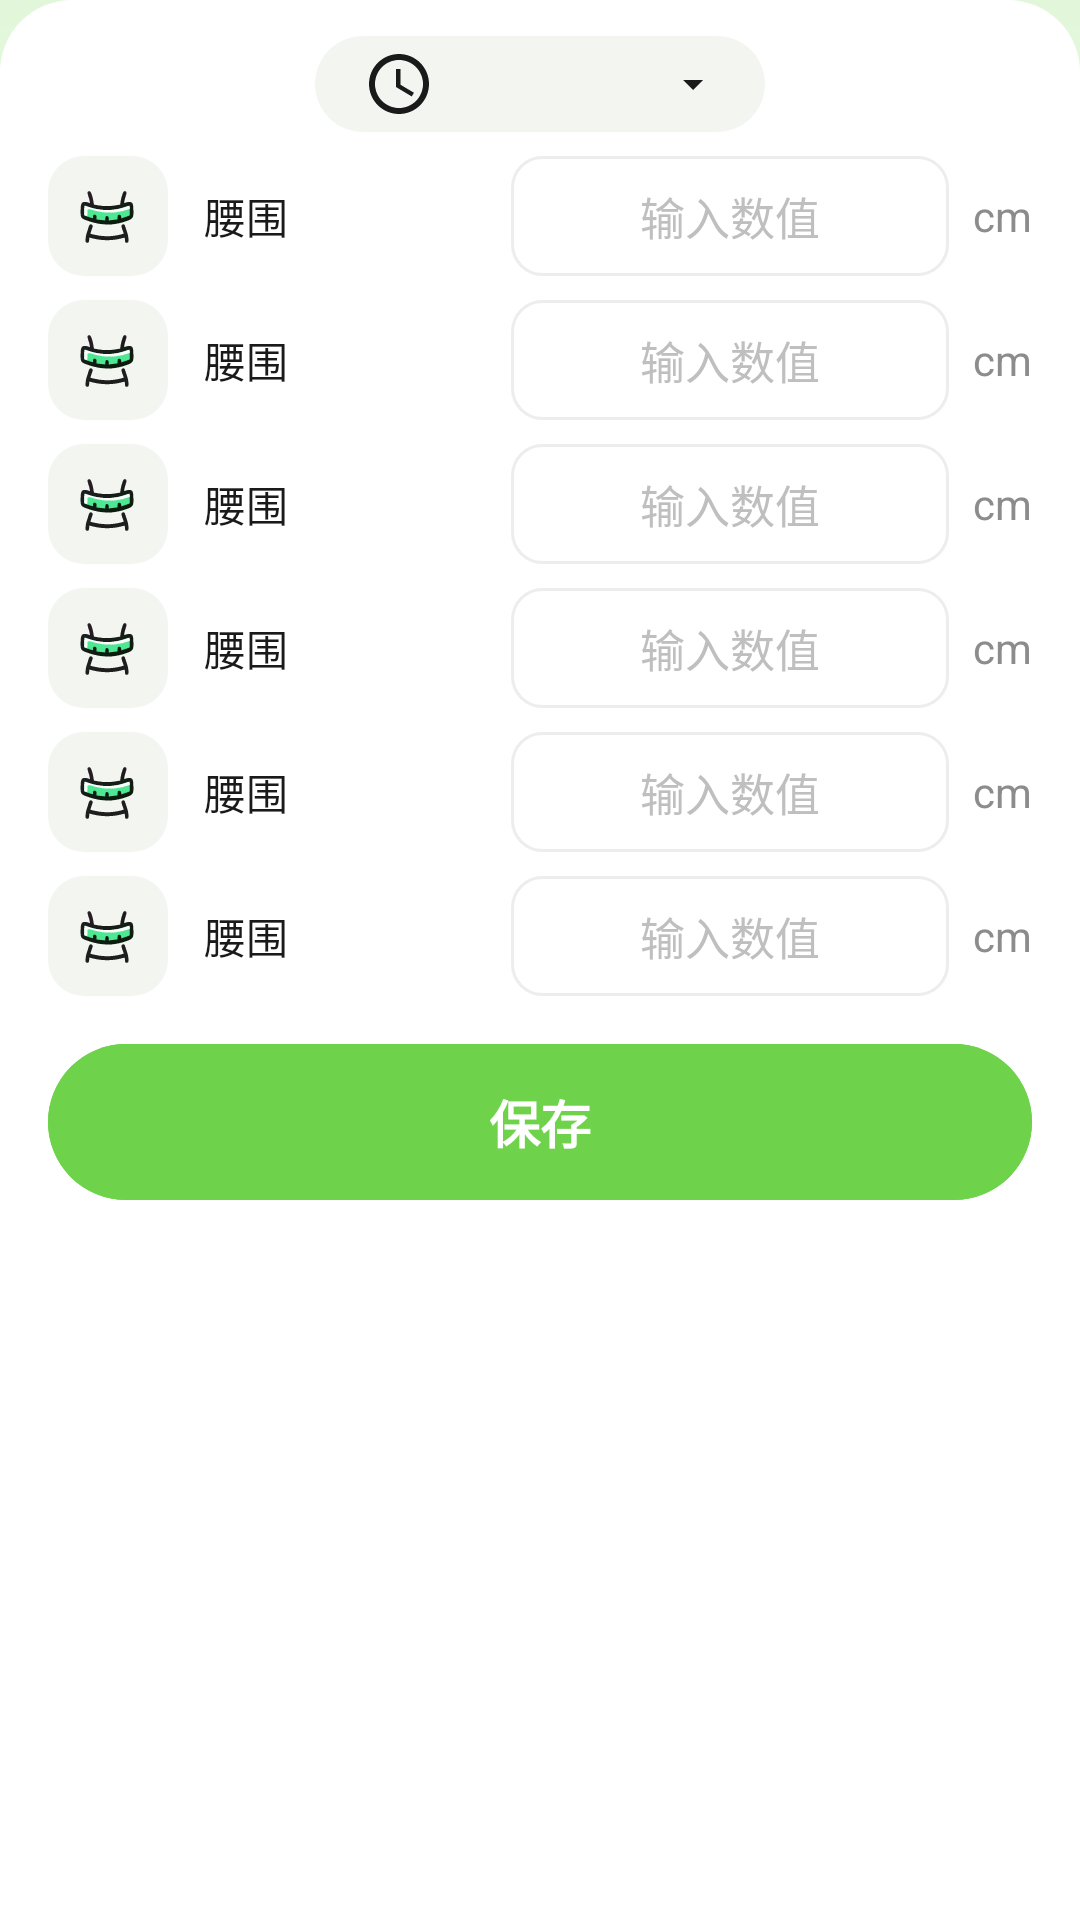

Named icons in this screenshot (1080px x 1920px) and their centers, [x,y]:
body waist: [108,216], [108,360], [108,504], [108,648], [108,792], [108,936]
